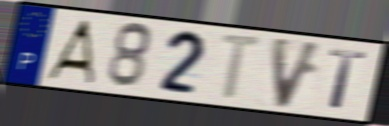2: (155, 28, 209, 98)
8: (104, 21, 155, 92)
A: (42, 18, 96, 87)
T: (217, 30, 268, 102), (327, 48, 370, 112)
V: (270, 34, 326, 111)
